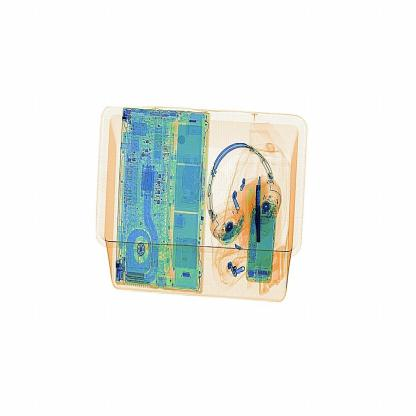pliers: (246, 168, 278, 247)
